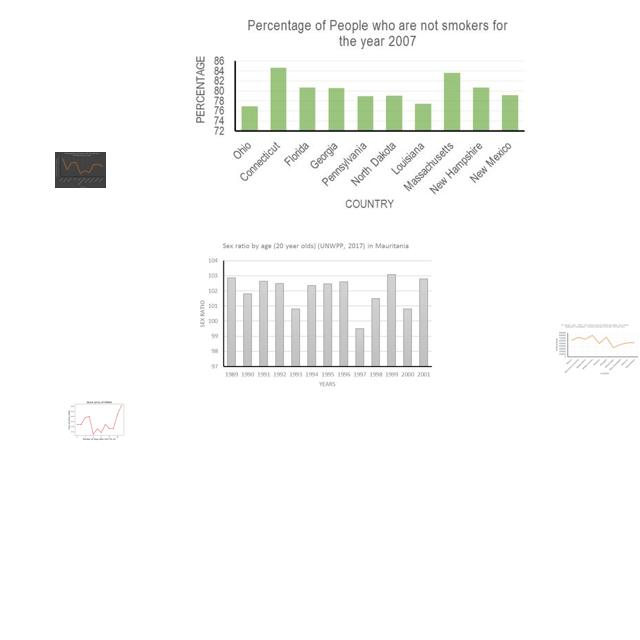Graph: (187, 11, 531, 218), (192, 239, 436, 390), (552, 323, 640, 375), (67, 396, 130, 443), (55, 152, 106, 188)
